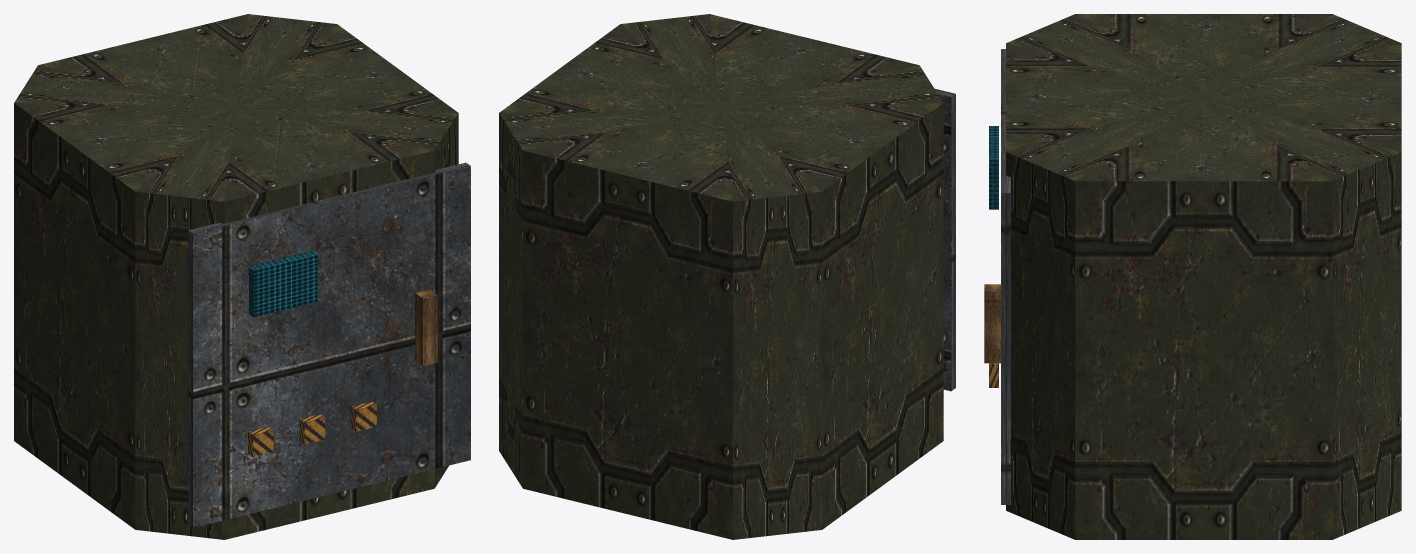
File: cabinet.obj
3 views of the same model, side by side, from view 1: azimuth 30°, elevation 25°; view 2: azimuth 150°, elevation 25°; view 3: azimuth 270°, elevation 25° (orthographic). The views are drawn at different scales.
Parts seen in each view (by area): view 1: cabinet; view 2: cabinet; view 3: cabinet.
Boxes of the visible parts, <box> form: cabinet: <box>14,14,470,539</box>; cabinet: <box>499,14,955,539</box>; cabinet: <box>984,14,1401,539</box>.
Bounding box in the file's own units: 1 × 1 × 1.05.
Materials: 1 (1 with a texture image).
